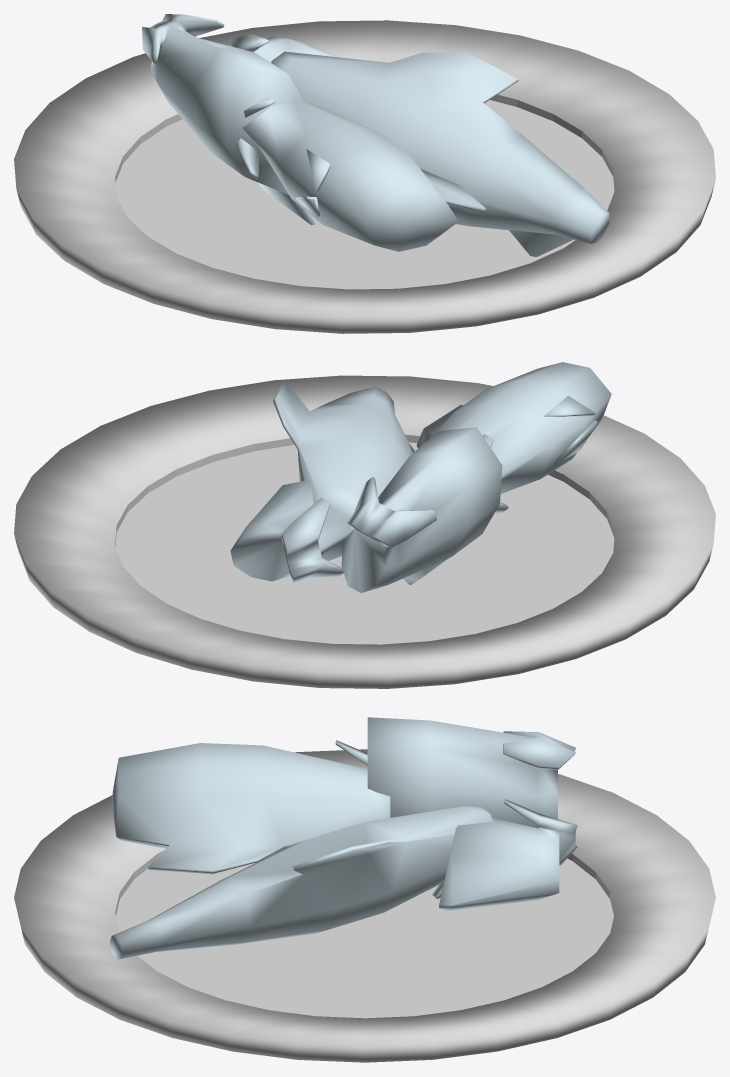
Rendered from processedFish.fbx.
3 renders of one model, top to bottom at view 1: azimuth 30°, elevation 25°; view 2: azimuth 150°, elevation 25°; view 3: azimuth 270°, elevation 25°, orthographic.
Parts seen in each view (by area): view 1: Fish1/4.001; view 2: Fish1/4.001; view 3: Fish1/4.001.
Boxes of the visible parts, x1,y1,x2,y2 form: Fish1/4.001: [14, 14, 715, 333]; Fish1/4.001: [14, 362, 715, 688]; Fish1/4.001: [14, 717, 715, 1062].
Size of the model in its own units: 178 by 49.64 by 178.
